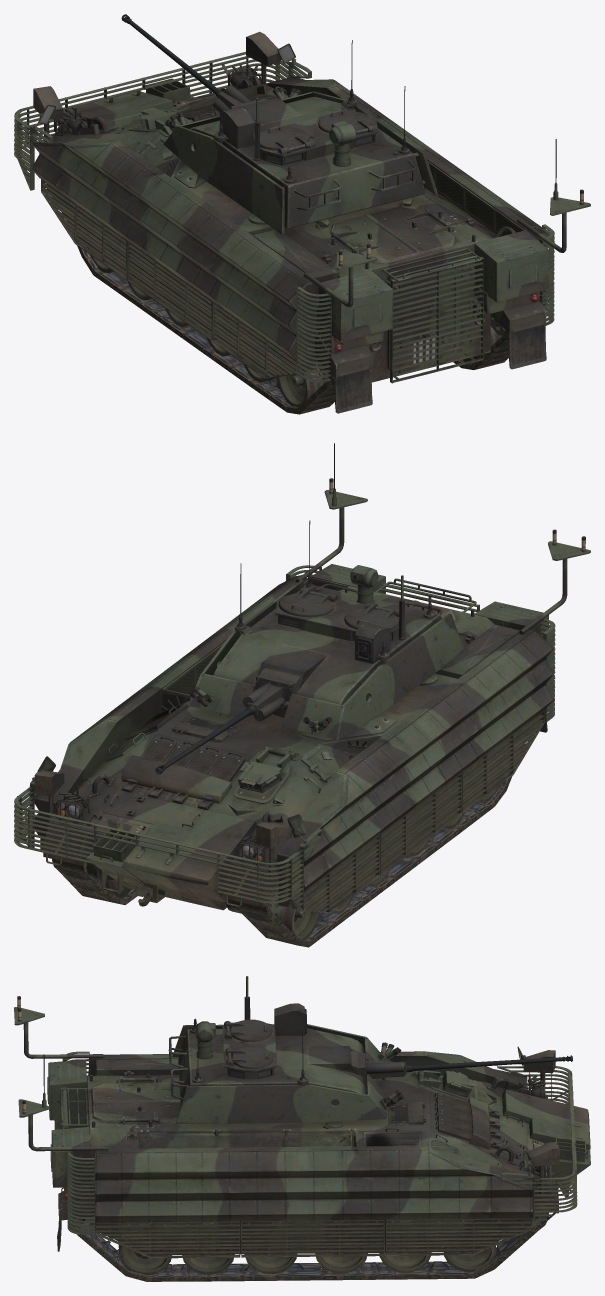
File: fv510_warrior.glb
The picture shows the model from 3 angles, top to bottom: view 1: azimuth 30°, elevation 25°; view 2: azimuth 150°, elevation 25°; view 3: azimuth 270°, elevation 25°; orthographic projection. The views are drawn at different scales.
Visible parts, largest first — view 1: Hull, Turret, Object_Track.jpg, Gun; view 2: Hull, Turret, Object_Track.jpg, Gun; view 3: Hull, Turret, Object_Track.jpg, Gun.
Boxes of the visible parts, x1,y1,x2,y2 form: Hull: [14, 31, 590, 413]; Turret: [163, 40, 437, 234]; Object_Track.jpg: [73, 233, 508, 414]; Gun: [121, 14, 222, 97]; Hull: [14, 443, 590, 940]; Turret: [188, 520, 464, 756]; Object_Track.jpg: [52, 744, 524, 947]; Gun: [155, 705, 255, 774]; Hull: [14, 996, 590, 1275]; Turret: [168, 976, 424, 1123]; Object_Track.jpg: [72, 1212, 548, 1281]; Gun: [405, 1055, 572, 1072].
Size of the model in its own units: 0.0134 by 0.0125 by 0.028.
2 materials, 2 textured.
